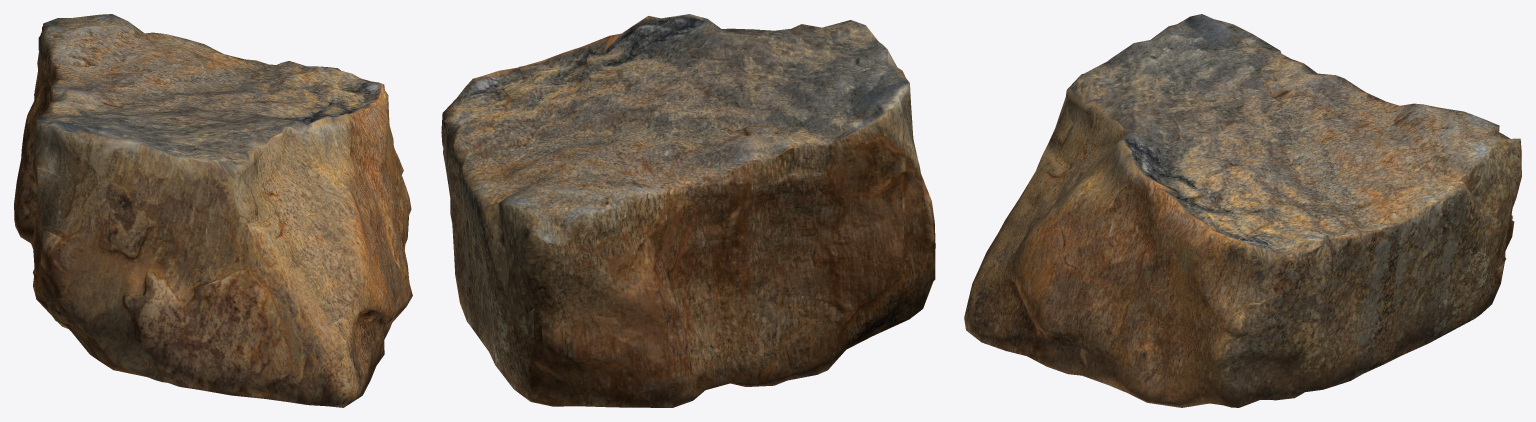
Rendered from namaqualand_boulder_03.gltf.
The picture shows the model from 3 angles, left to right: view 1: azimuth 30°, elevation 25°; view 2: azimuth 150°, elevation 25°; view 3: azimuth 270°, elevation 25°; orthographic projection. The views are drawn at different scales.
Parts seen in each view (by area): view 1: namaqualand_boulder_03__x; view 2: namaqualand_boulder_03__x; view 3: namaqualand_boulder_03__x.
Part boxes in pixels (x1=…): namaqualand_boulder_03__x: x1=14, y1=14, x2=412, y2=407; namaqualand_boulder_03__x: x1=441, y1=14, x2=935, y2=407; namaqualand_boulder_03__x: x1=964, y1=14, x2=1521, y2=407.
Bounding box in the file's own units: 2.4 × 1.47 × 3.06.
Materials: 1 (1 with a texture image).
